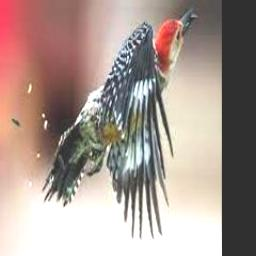Woodpecker: (43, 6, 198, 240)
